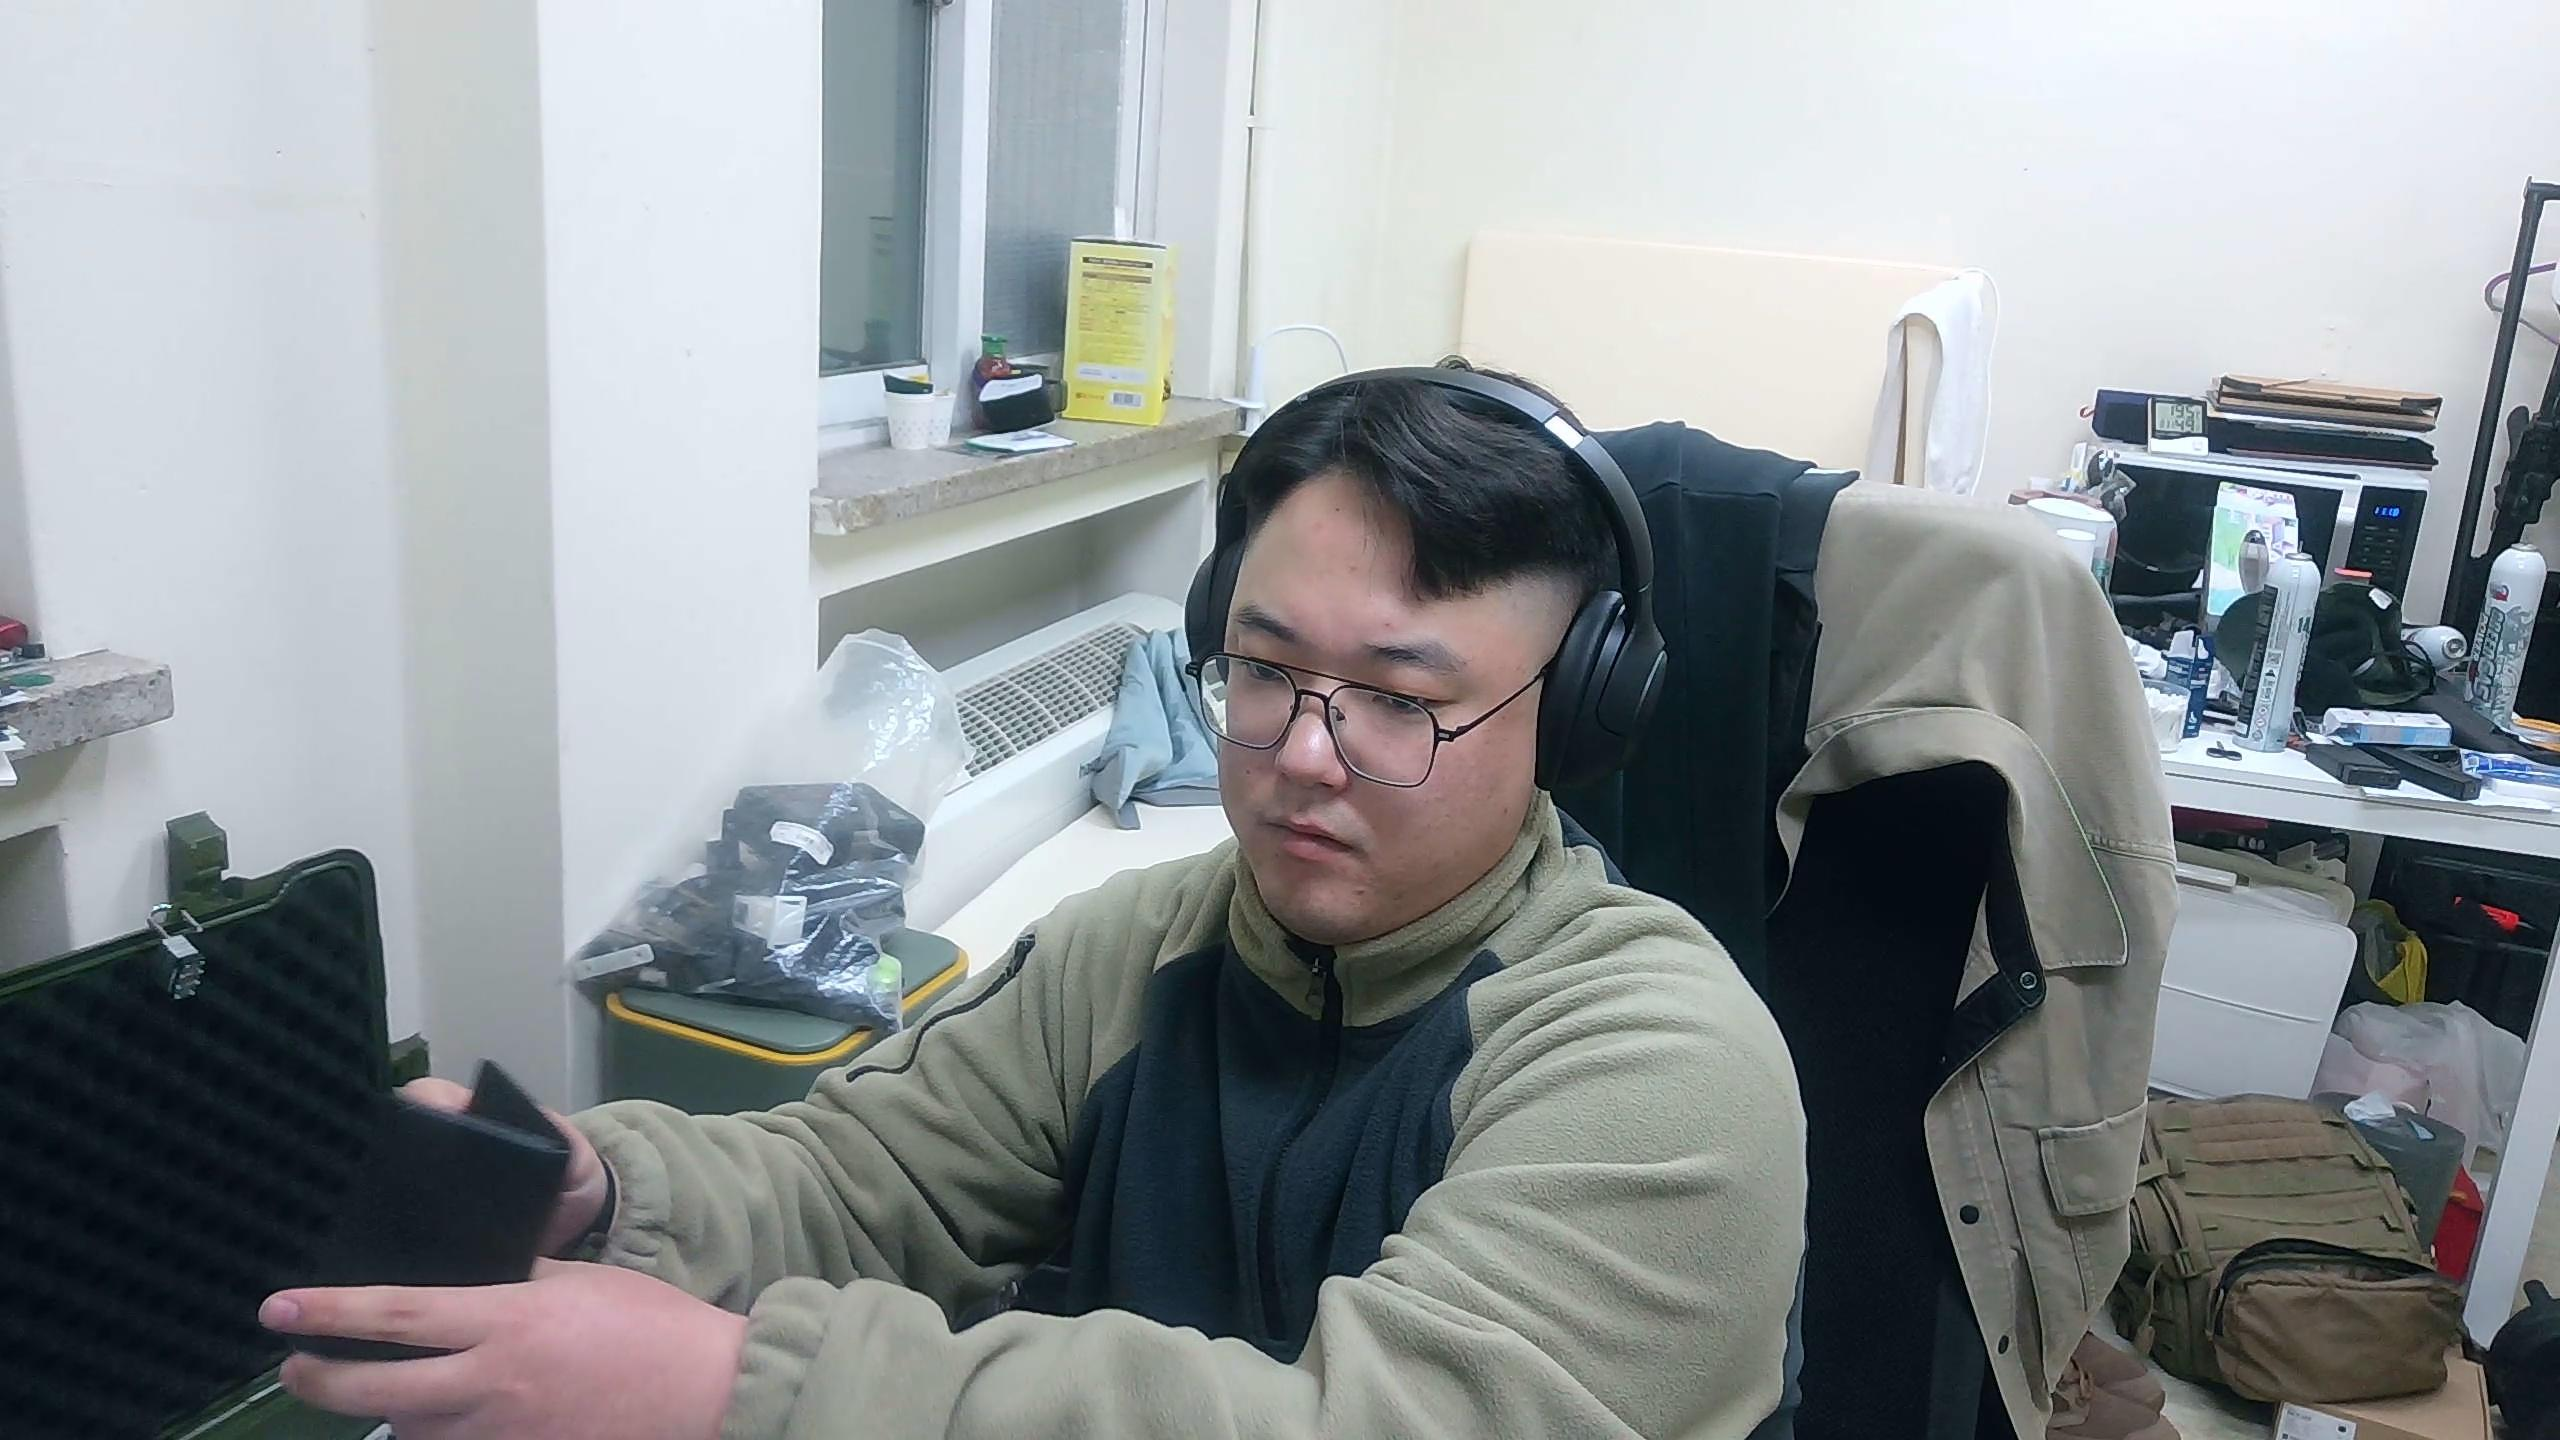earphone: (2, 812, 571, 1438)
